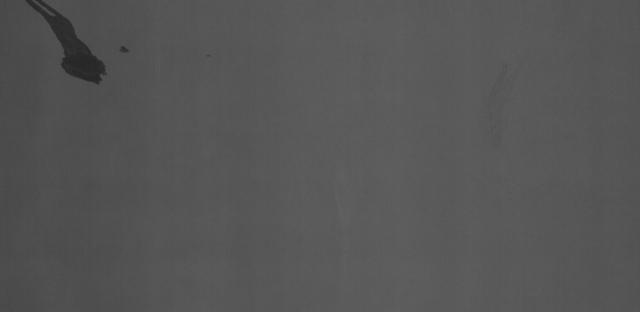oil_spot: (15, 0, 138, 88)
